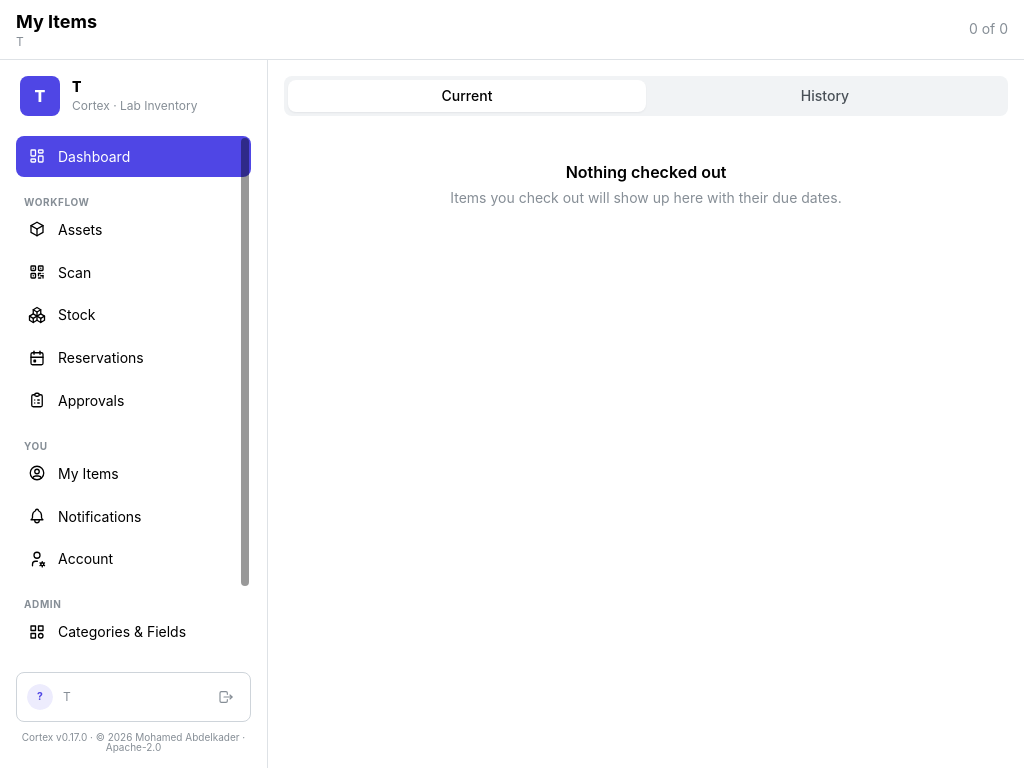
Test: MyItemsScreen › shows tab-specific empty-state copy
Expected: the text "Nothing checked out" is shown, [566,160,726,184]
Click the text "History".
click(825, 96)  # box [801,87,849,104]
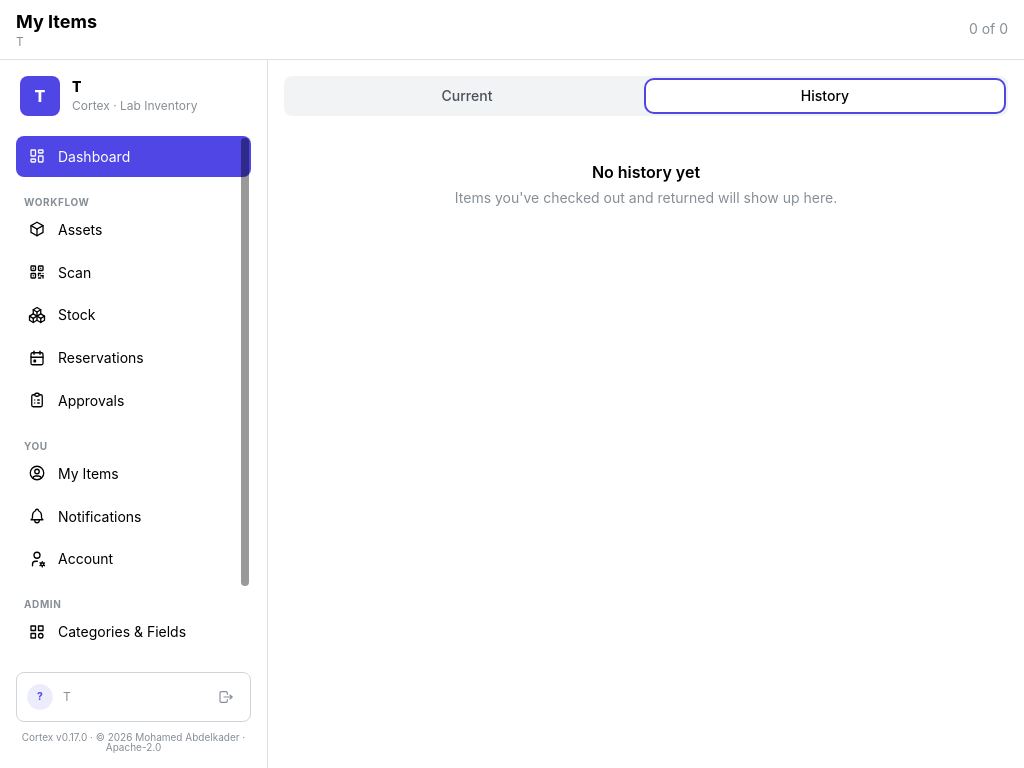
Expected: the text "No history yet" is shown, [592,160,700,184]
Expected: the text "Nothing checked out" is gone
